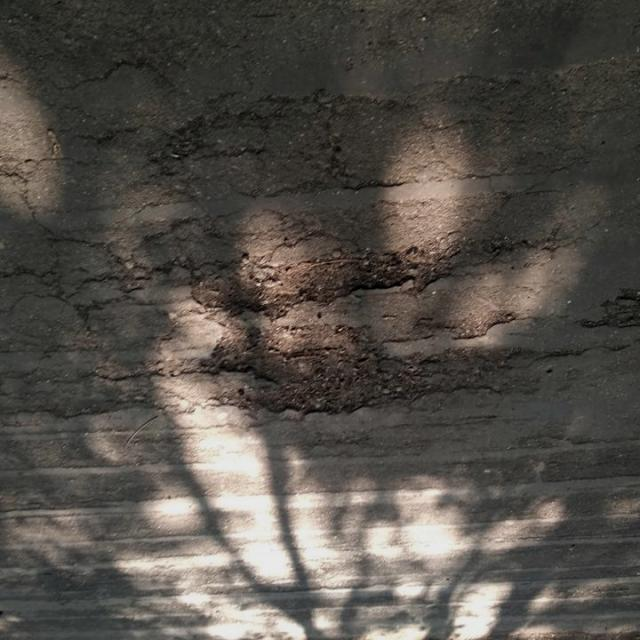pothole: (104, 124, 640, 444)
